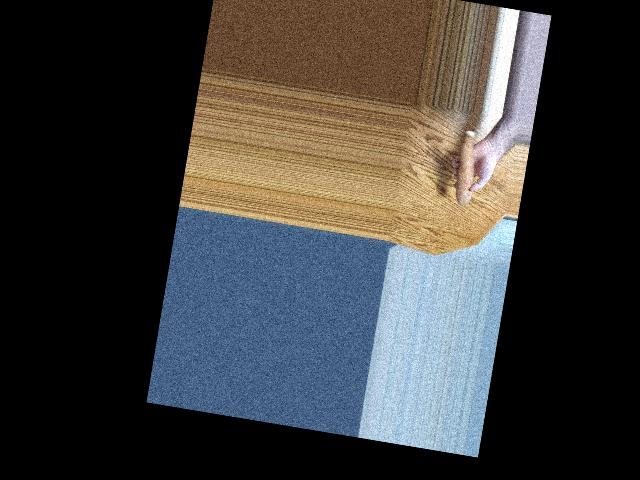sweet_potato: (447, 134, 477, 206)
